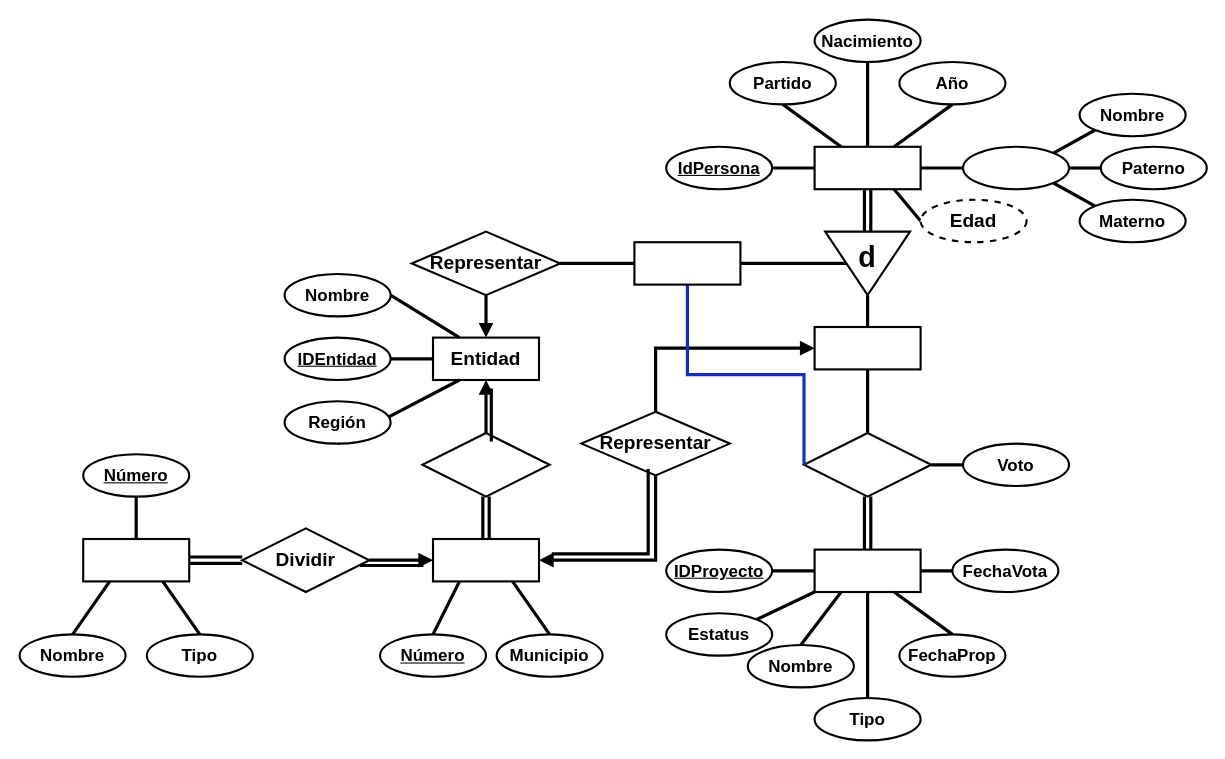
This 1225x759 diagram has some shape labels left out. Each missing label, with the centre of its shape:
Diputado: (x=867, y=347)
Distrito: (x=485, y=559)
NombreC: (x=1015, y=167)
Persona: (x=867, y=167)
Proponer: (x=867, y=464)
Proyecto: (x=867, y=570)
Sección: (x=136, y=559)
Senador: (x=687, y=263)
Tener: (x=485, y=464)
